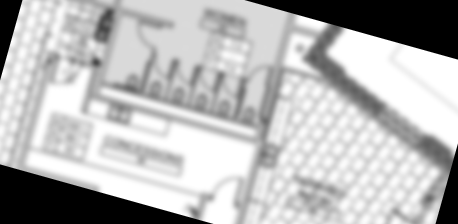door: (370, 95, 434, 152), (209, 169, 245, 206), (49, 55, 84, 91), (132, 18, 165, 52), (246, 59, 275, 86), (218, 71, 244, 100), (380, 204, 417, 224), (171, 59, 198, 86), (195, 66, 222, 93), (150, 52, 175, 79)
wall: (99, 79, 261, 132), (253, 13, 299, 141), (15, 50, 56, 171), (61, 0, 179, 31), (89, 9, 123, 102), (233, 139, 268, 224), (13, 163, 105, 193), (411, 162, 451, 224), (193, 190, 210, 221), (109, 0, 130, 16)
window: (89, 90, 263, 146)
